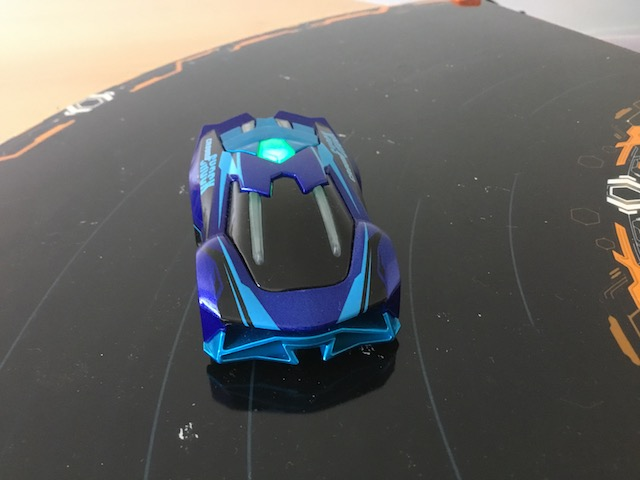car-blue: (180, 107, 405, 381)
